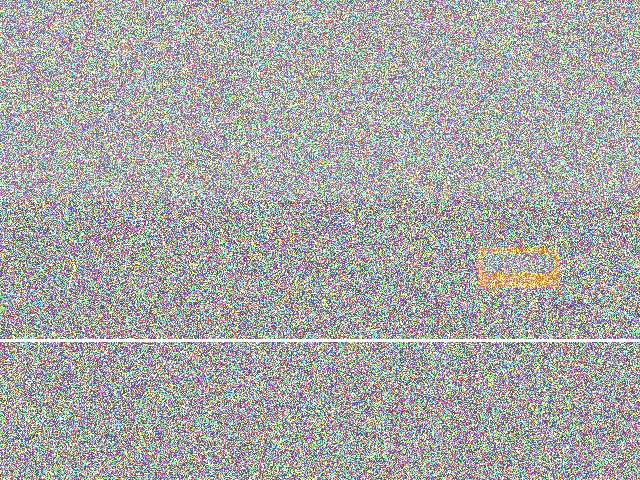bus: (94, 229, 225, 304)
car: (150, 154, 340, 278)
truck: (386, 119, 546, 174)
